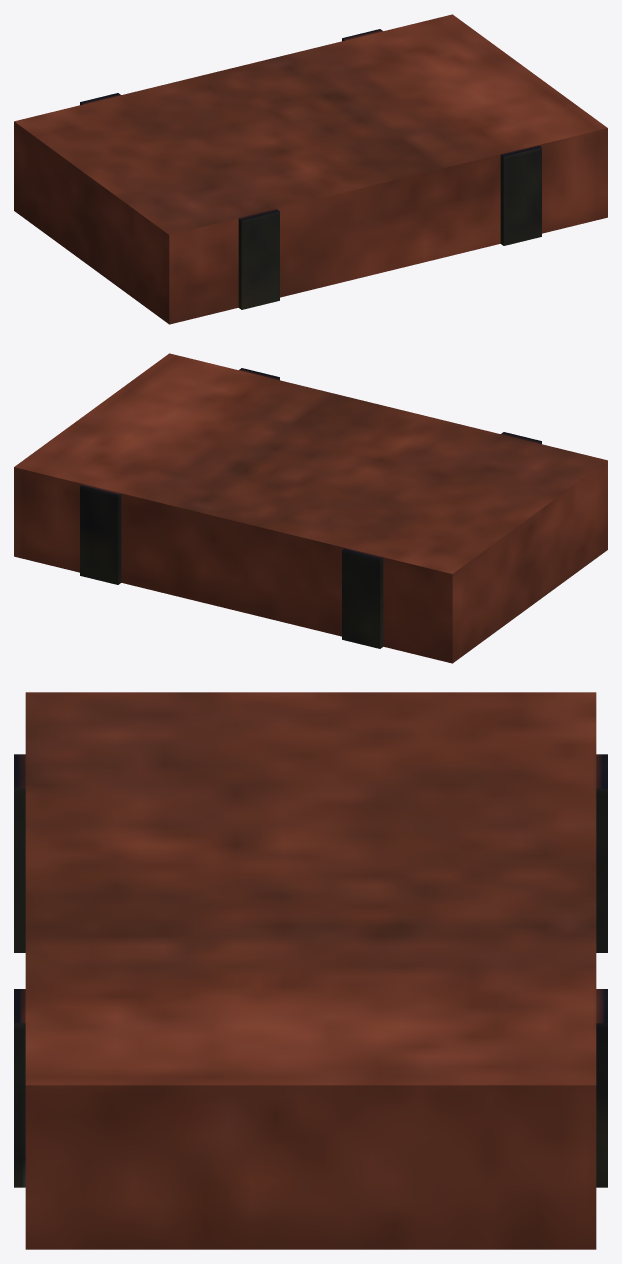
Rendered from StorageChestTop.fbx.
3 renders of one model, top to bottom at view 1: azimuth 30°, elevation 25°; view 2: azimuth 150°, elevation 25°; view 3: azimuth 270°, elevation 25°, orthographic. The views are drawn at different scales.
Visible parts, largest first — view 1: Cover; view 2: Cover; view 3: Cover.
Part boxes in pixels (x1,y1,x2,y2): Cover: [14, 14, 607, 324]; Cover: [14, 353, 607, 663]; Cover: [14, 692, 607, 1249].
Size of the model in its own units: 241 by 46.95 by 154.
1 material, 1 textured.
